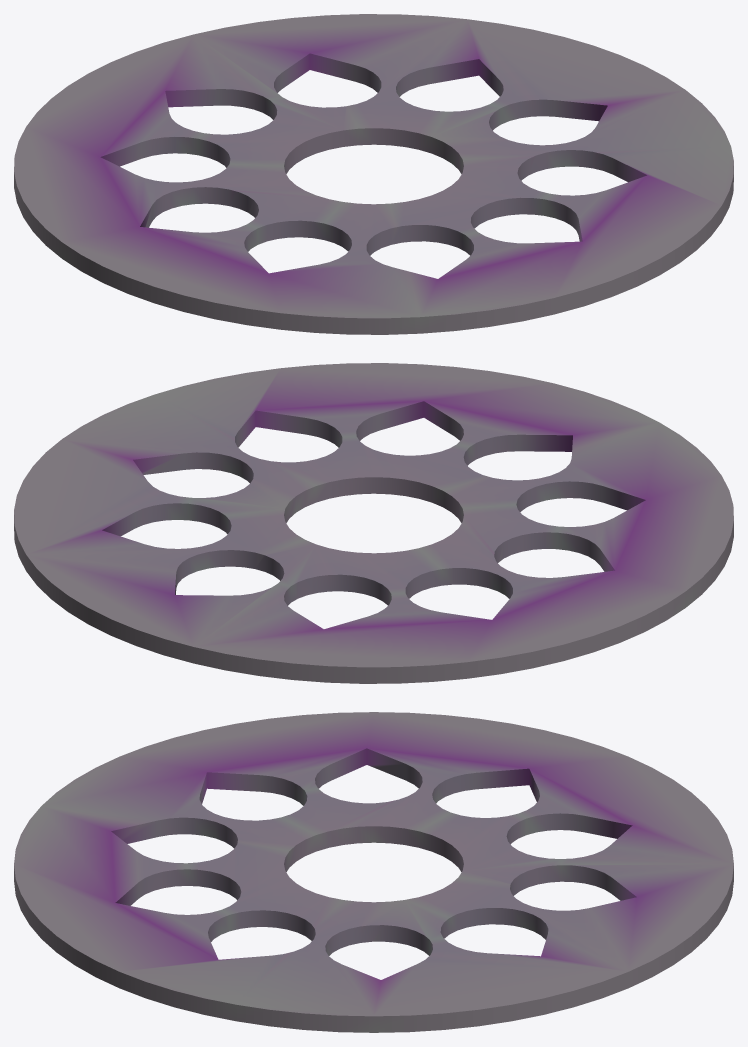
3 renders of one model, top to bottom at view 1: azimuth 30°, elevation 25°; view 2: azimuth 150°, elevation 25°; view 3: azimuth 270°, elevation 25°, orthographic.
Visible parts, largest first — view 1: plate; view 2: plate; view 3: plate.
Part boxes in pixels (x1,y1,x2,y2): plate: (14, 14, 733, 334); plate: (14, 363, 733, 683); plate: (14, 712, 733, 1032).
Bounding box in the file's own units: 0.1 × 0.00254 × 0.1.
